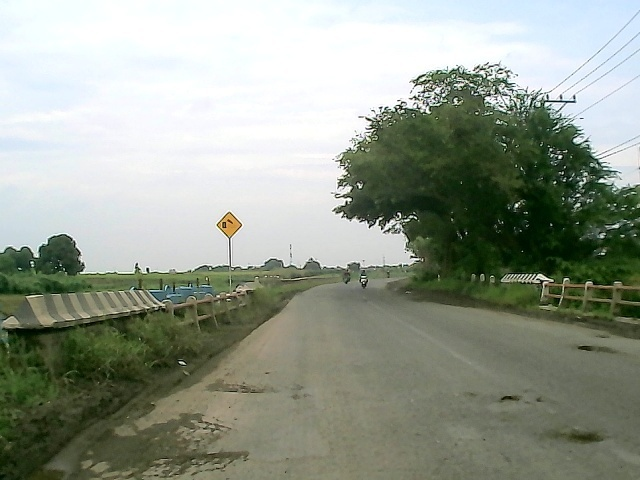Peringatan tepi air: (215, 210, 244, 239)
